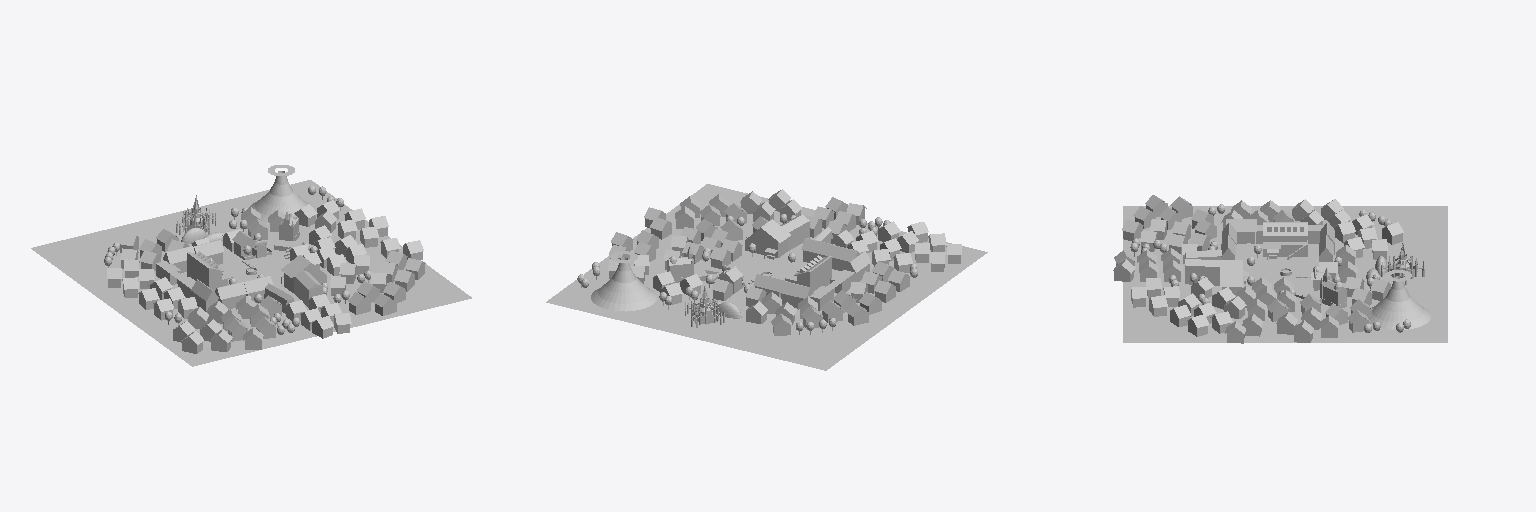
The model's file is Market (OOT).obj.
The picture shows the model from 3 angles: view 1: azimuth 30°, elevation 25°; view 2: azimuth 150°, elevation 25°; view 3: azimuth 270°, elevation 25°; orthographic projection.
Parts seen in each view (by area): view 1: Plane, Cube.002, Circle.001, Cube.014_Cube.011, Cube.008, Cube.015_Cube.017, pasted__polySurface38, Cube.003; view 2: Plane, Cube.002, Circle.001, Cube.014_Cube.011, Cube.008, pasted__polySurface38, Cube.015_Cube.017, Cube.010; view 3: Plane, Circle.001, Cube.002, Cube.014_Cube.011, Cube.008, Cube.015_Cube.017, Cube.010, pasted__polySurface38.
Part boxes in pixels (x1,y1,x2,y2): Plane: (31, 180, 471, 366); Cube.002: (156, 240, 246, 311); Circle.001: (249, 165, 314, 223); Cube.014_Cube.011: (281, 255, 326, 307); Cube.008: (187, 251, 234, 291); Cube.015_Cube.017: (244, 275, 293, 313); pasted__polySurface38: (176, 195, 215, 234); Cube.003: (232, 231, 266, 258); Plane: (546, 184, 987, 370); Cube.002: (753, 244, 870, 310); Circle.001: (591, 251, 656, 311); Cube.014_Cube.011: (745, 215, 809, 257); Cube.008: (791, 255, 831, 291); pasted__polySurface38: (685, 286, 724, 327); Cube.015_Cube.017: (801, 227, 832, 262); Cube.010: (667, 245, 693, 277); Plane: (1123, 206, 1447, 342); Circle.001: (1369, 270, 1430, 329); Cube.002: (1222, 219, 1334, 261); Cube.014_Cube.011: (1185, 259, 1242, 294); Cube.008: (1263, 222, 1307, 256); Cube.015_Cube.017: (1185, 235, 1235, 259); Cube.010: (1320, 268, 1346, 304); pasted__polySurface38: (1381, 243, 1424, 284).
Bounding box in the file's own units: 74.25 × 10.78 × 75.92.